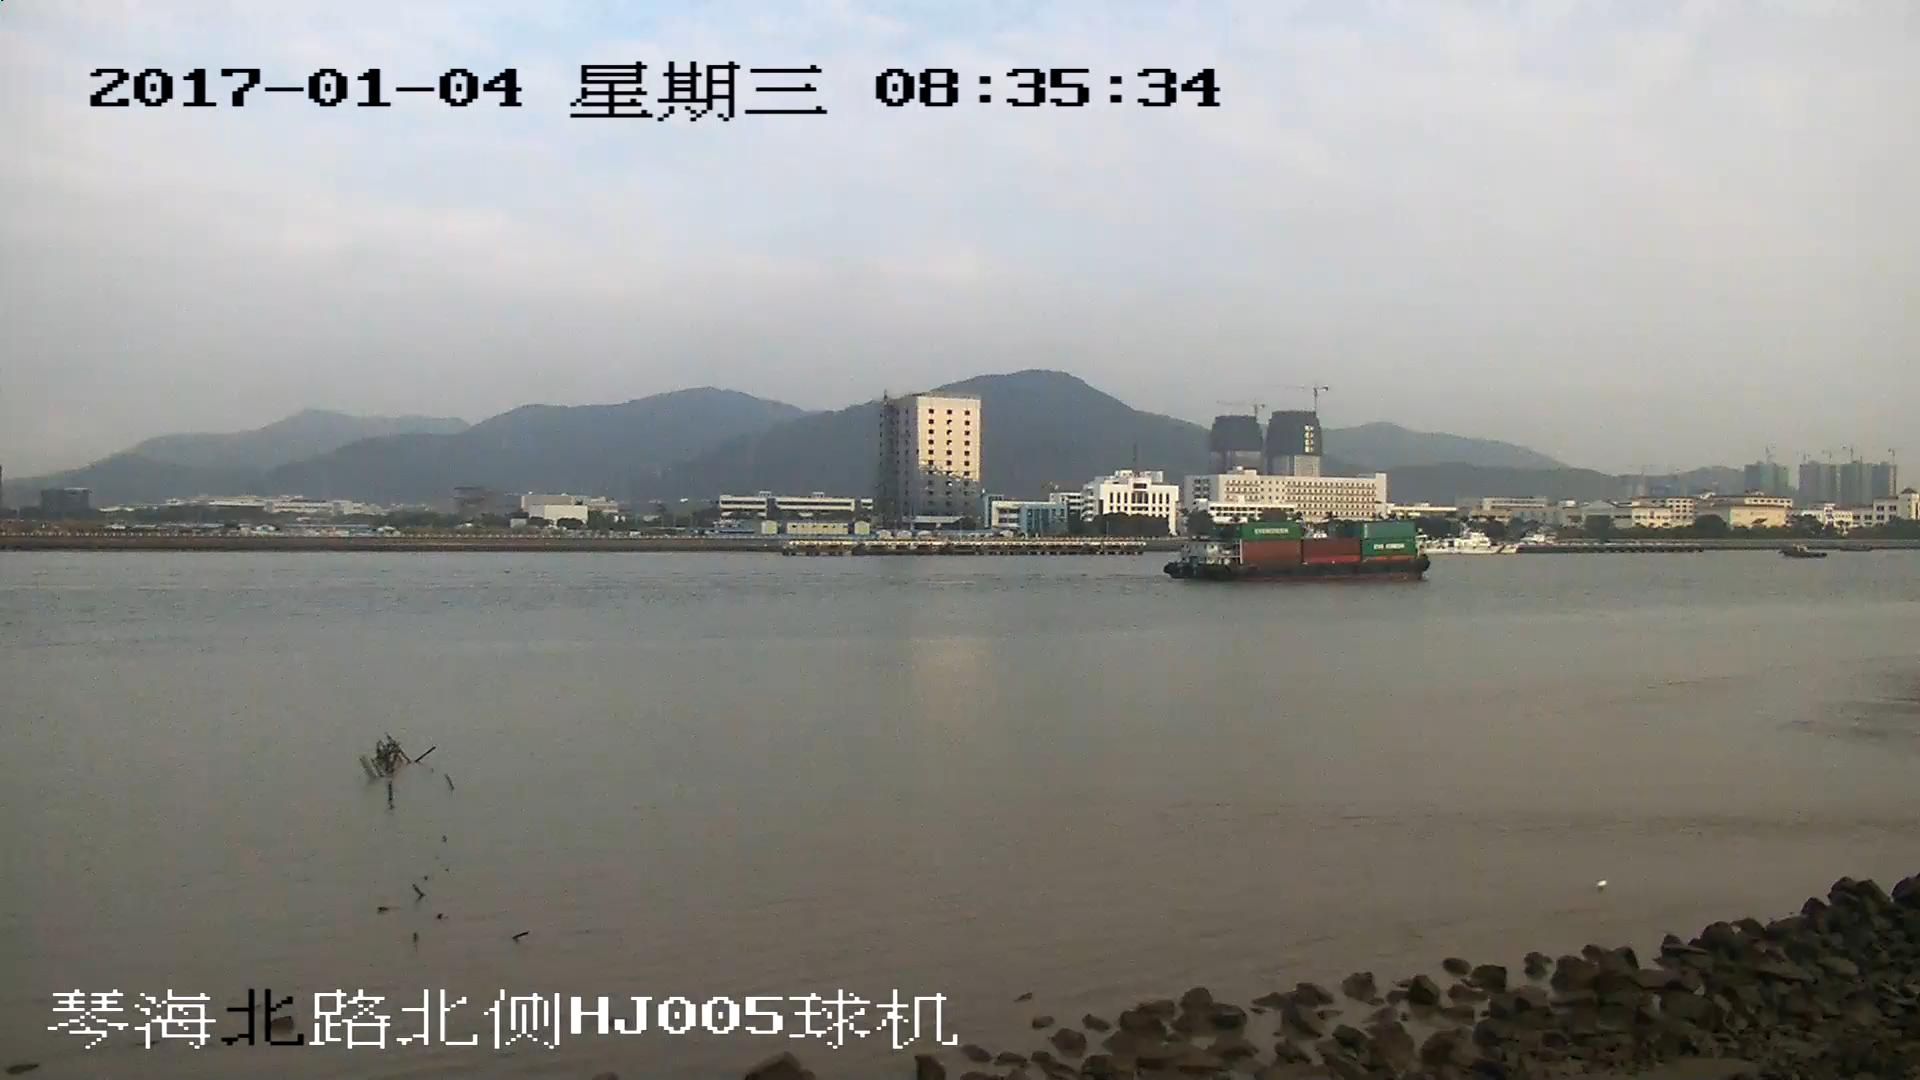container ship: (1168, 519, 1428, 584)
